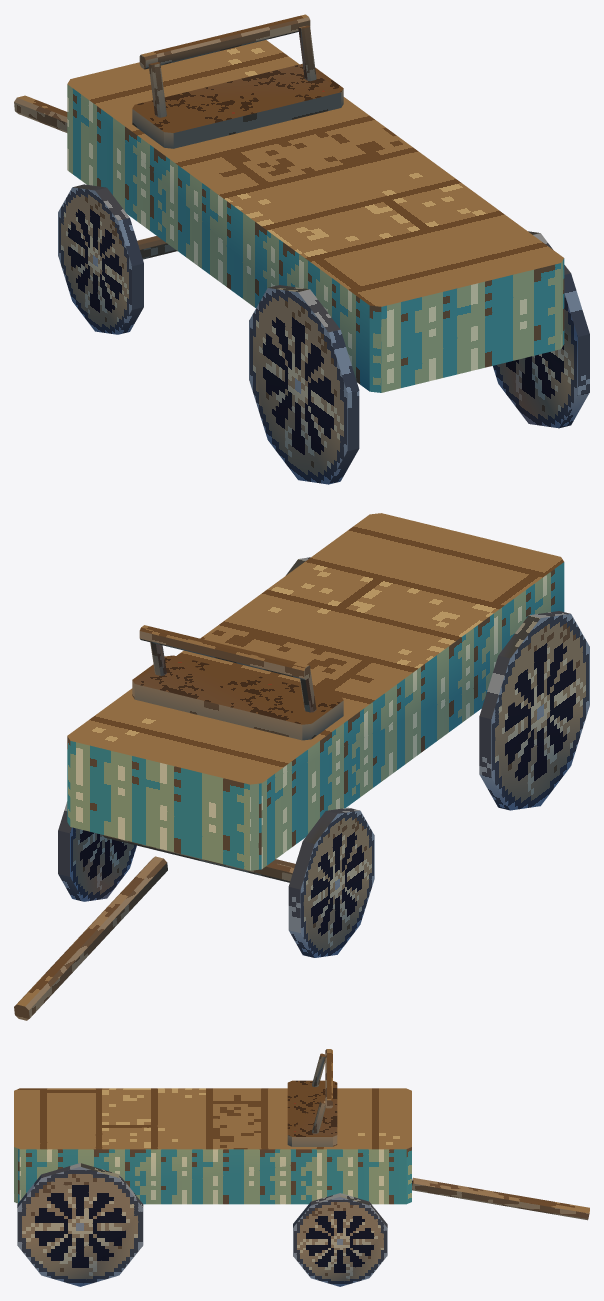
Rendered from wprop.wagon__buckboard.glb.
3 renders of one model, top to bottom at view 1: azimuth 30°, elevation 25°; view 2: azimuth 150°, elevation 25°; view 3: azimuth 270°, elevation 25°, orthographic. The views are drawn at different scales.
Visible parts, largest first — view 1: kit_box, kit_wheels, kit_seat, kit_tongue; view 2: kit_box, kit_wheels, kit_seat, kit_tongue, kit_axles; view 3: kit_box, kit_wheels, kit_seat, kit_tongue.
Boxes of the visible parts, box(x1,y1,x2,y2) form: kit_box: box(67, 40, 564, 392); kit_wheels: box(58, 184, 589, 484); kit_seat: box(132, 14, 343, 148); kit_tongue: box(14, 95, 67, 132); kit_box: box(67, 513, 564, 870); kit_wheels: box(58, 557, 589, 957); kit_seat: box(132, 625, 343, 740); kit_tongue: box(14, 856, 167, 1020); kit_axles: box(102, 835, 295, 882); kit_box: box(14, 1088, 411, 1204); kit_wheels: box(17, 1163, 387, 1286); kit_seat: box(287, 1049, 337, 1146); kit_tongue: box(412, 1177, 589, 1220).
Bounding box in the file's own units: 1.62 × 1.74 × 5.21.
Materials: 6 (6 with a texture image).
